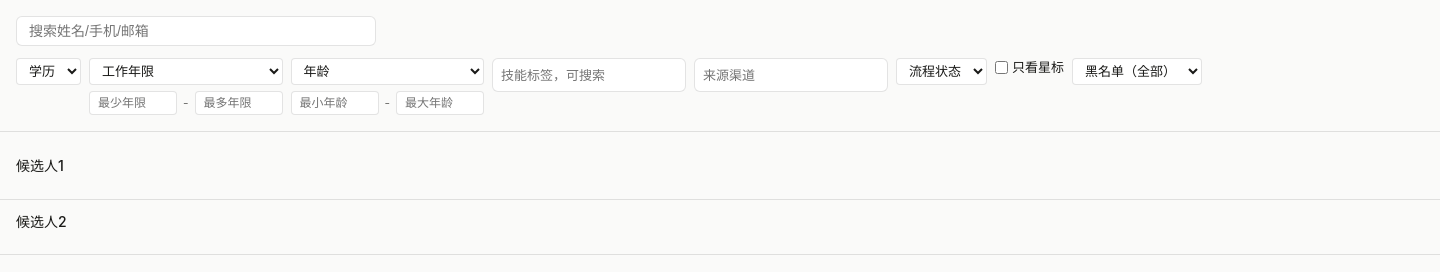
TalentPoolView › 加载并展示技能筛选候选选项
The image size is (1440, 272).
Focus the field with class "filters__tag-input": point(589, 75) x1=501 y1=63 x2=677 y2=87
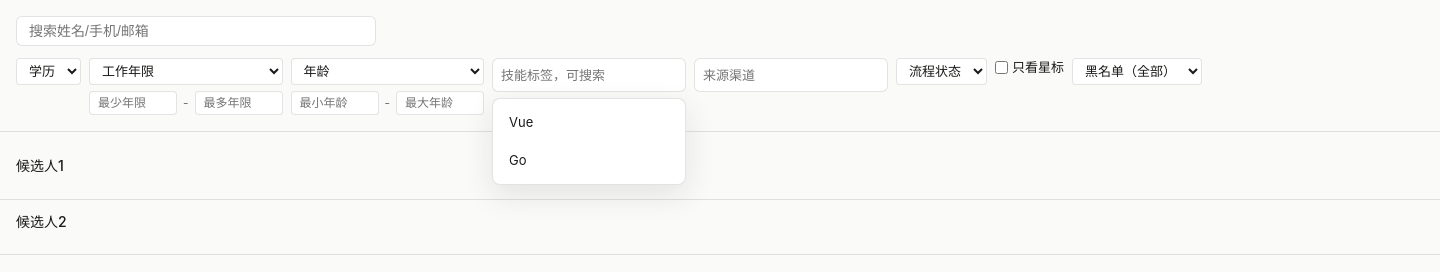
Expected: the button with class "filter-multi-select__option" reads "Vue", x1=499 y1=105 x2=679 y2=140
Expected: the button with class "filter-multi-select__option" reads "Go", x1=499 y1=142 x2=679 y2=178
